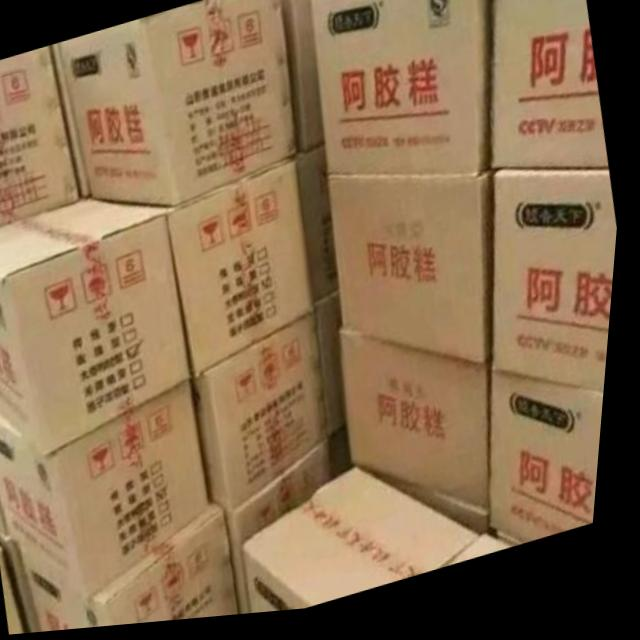box: (0, 199, 199, 458), (58, 0, 299, 210), (0, 385, 219, 602), (252, 472, 489, 619), (168, 160, 320, 382), (311, 0, 494, 183), (332, 177, 500, 372), (496, 179, 622, 403), (28, 507, 250, 634), (348, 335, 500, 517), (196, 320, 336, 515), (490, 0, 612, 179), (498, 381, 611, 553), (232, 441, 340, 620), (0, 46, 83, 227), (366, 473, 501, 544), (297, 149, 344, 309), (282, 0, 327, 156), (321, 295, 354, 444), (6, 542, 38, 636), (453, 543, 522, 576)
